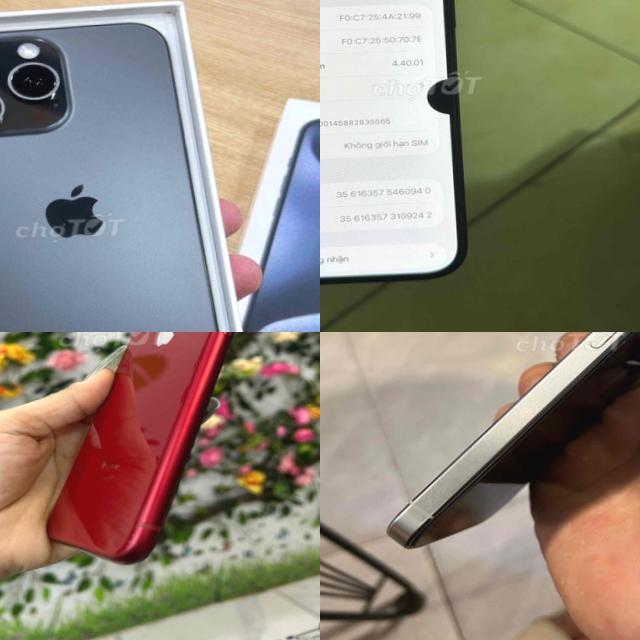screen_defect: (422, 62, 504, 128)
